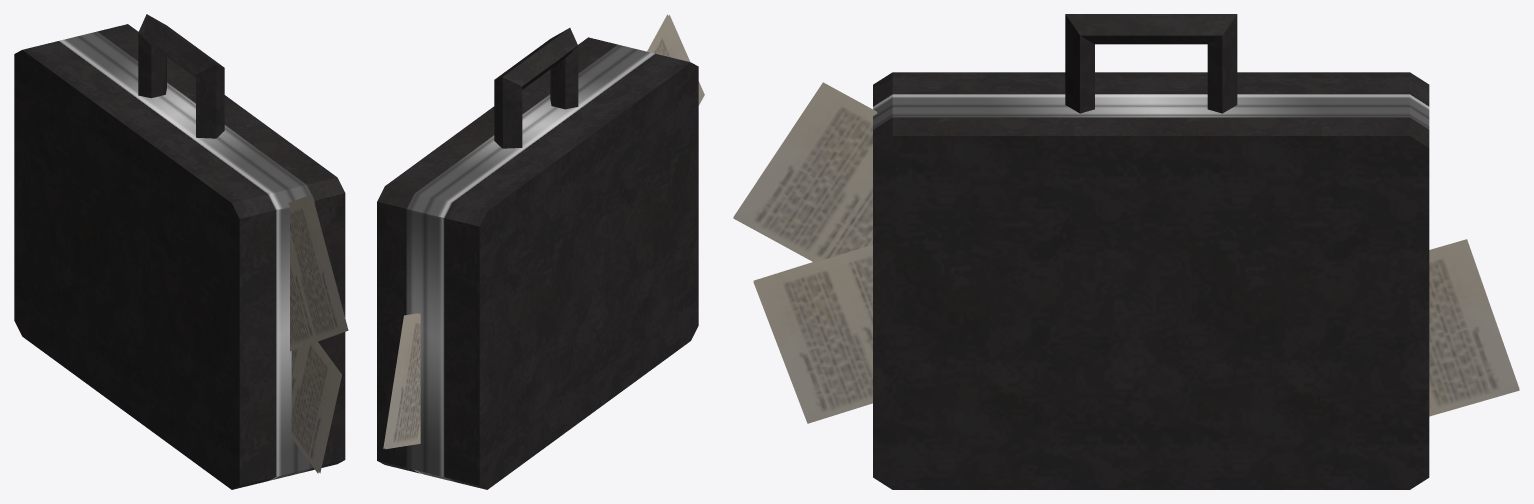
File: Zombie_Office_Worker_Suitcase.fbx
The picture shows the model from 3 angles, left to right: view 1: azimuth 30°, elevation 25°; view 2: azimuth 150°, elevation 25°; view 3: azimuth 270°, elevation 25°; orthographic projection. The views are drawn at different scales.
Visible parts, largest first — view 1: Worker_Zombie_Briefcase_Model; view 2: Worker_Zombie_Briefcase_Model; view 3: Worker_Zombie_Briefcase_Model.
Part boxes in pixels (x1,y1,x2,y2): Worker_Zombie_Briefcase_Model: (14, 14, 348, 489); Worker_Zombie_Briefcase_Model: (377, 14, 704, 489); Worker_Zombie_Briefcase_Model: (733, 14, 1519, 489).
Bounding box in the file's own units: 18.74 × 61.12 × 97.87.
